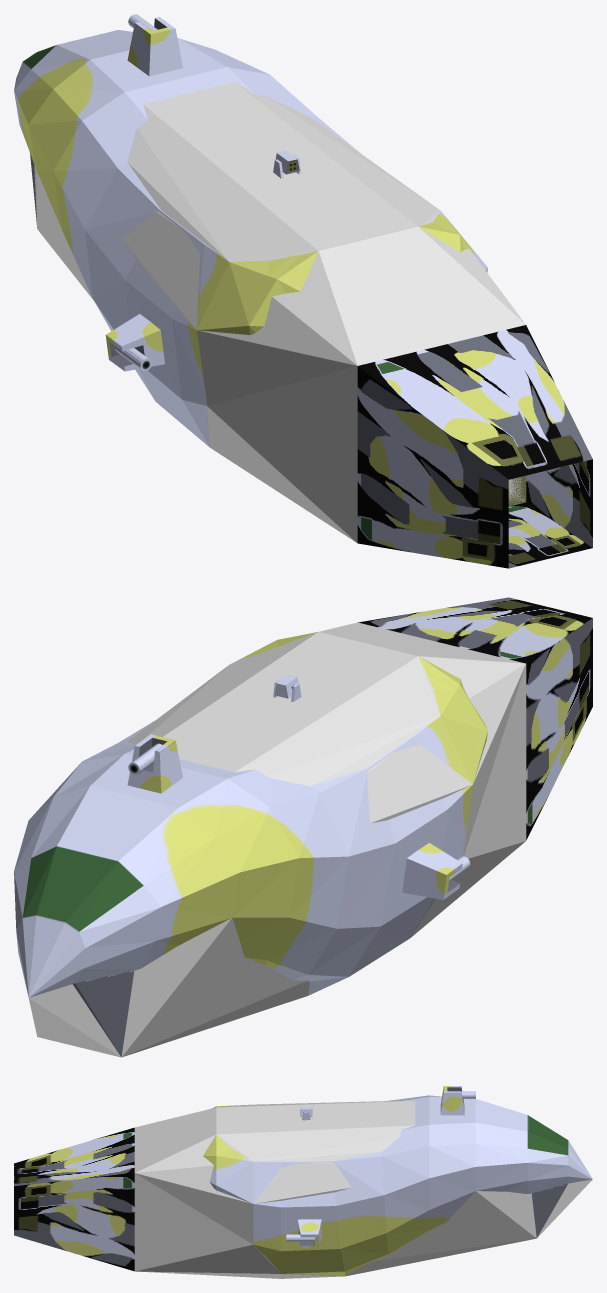
3 renders of one model, top to bottom at view 1: azimuth 30°, elevation 25°; view 2: azimuth 150°, elevation 25°; view 3: azimuth 270°, elevation 25°, orthographic. The views are drawn at different scales.
Parts seen in each view (by area): view 1: Fuselage Extents, Exhaust, Fuselage, Debris Mesh.003, Debris Mesh.000, Debris Mesh.002, Turret Base.000, Turret Base.002; view 2: Fuselage Extents, Fuselage, Debris Mesh.000, Exhaust, Debris Mesh.003, Turret Base.002, Turret Base.000, Debris Mesh.001; view 3: Fuselage Extents, Fuselage, Debris Mesh.000, Exhaust, Debris Mesh.003, Debris Mesh.002, Debris Mesh.001, Turret Base.000, Turret Base.003.
Part boxes in pixels (box(x1,y1,x2,y2)): Fuselage Extents: box(34, 82, 525, 542); Exhaust: box(357, 325, 592, 568); Fuselage: box(14, 30, 526, 506); Debris Mesh.003: box(125, 210, 481, 447); Debris Mesh.000: box(14, 31, 298, 399); Debris Mesh.002: box(204, 227, 526, 506); Turret Base.000: box(127, 17, 182, 76); Turret Base.002: box(105, 314, 164, 371); Fuselage Extents: box(28, 622, 526, 1057); Fuselage: box(14, 657, 487, 1055); Debris Mesh.000: box(15, 750, 395, 1003); Exhaust: box(358, 597, 592, 839); Debris Mesh.003: box(230, 632, 482, 976); Turret Base.002: box(402, 843, 462, 899); Turret Base.000: box(127, 734, 182, 793); Debris Mesh.001: box(85, 1001, 129, 1056); Fuselage Extents: box(134, 1100, 592, 1278); Fuselage: box(203, 1095, 592, 1271); Debris Mesh.000: box(331, 1097, 592, 1276); Exhaust: box(14, 1127, 134, 1271); Debris Mesh.003: box(216, 1104, 344, 1276); Debris Mesh.002: box(203, 1106, 280, 1273); Debris Mesh.001: box(531, 1184, 564, 1232); Turret Base.000: box(440, 1086, 464, 1115); Turret Base.003: box(297, 1219, 321, 1247).
Size of what is drawn, in the model's own units: 8.1 by 21.48 by 7.12.
Materials: 4 (4 with a texture image).
